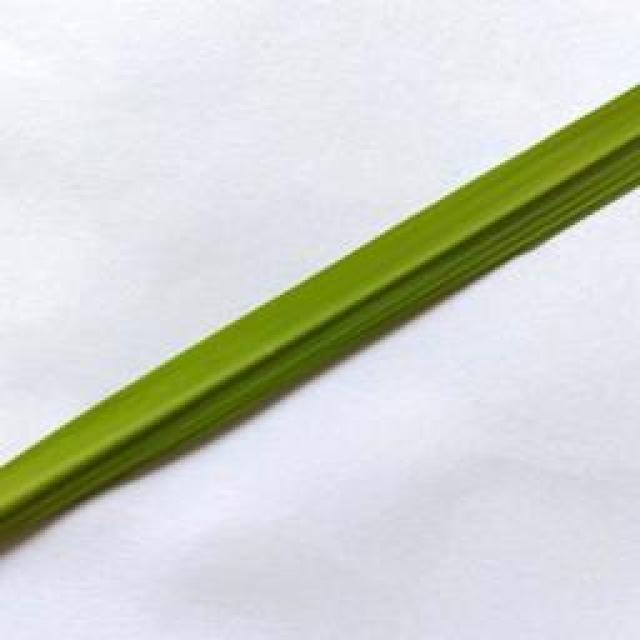Healthy-Plant: (477, 70, 640, 290), (335, 172, 488, 372), (208, 256, 347, 448), (0, 391, 119, 553), (112, 333, 215, 491)
